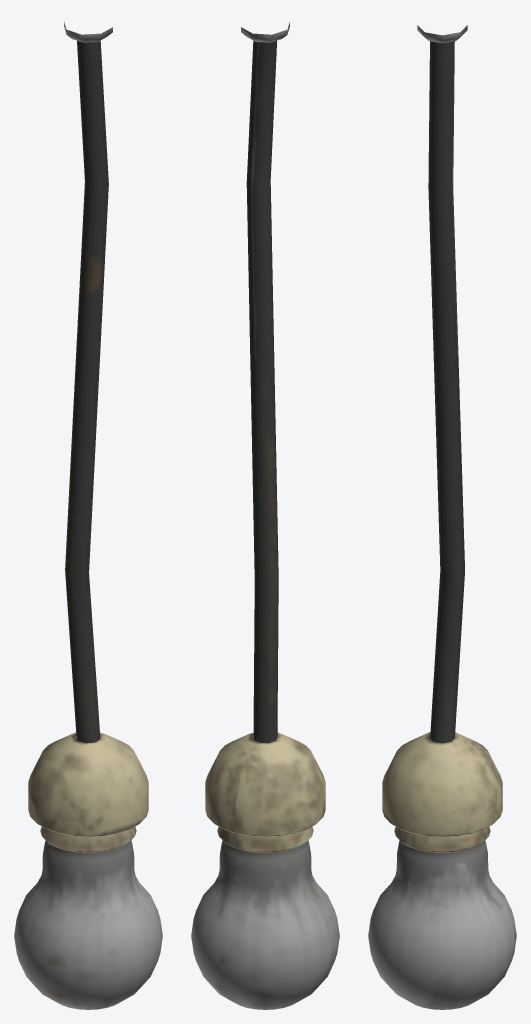
The model's file is SM_lightbulb.gltf.
3 views of the same model, side by side, from view 1: azimuth 30°, elevation 25°; view 2: azimuth 150°, elevation 25°; view 3: azimuth 270°, elevation 25° (orthographic).
Visible parts, largest first — view 1: SM_lightbulb; view 2: SM_lightbulb; view 3: SM_lightbulb.
Part boxes in pixels (x1,y1,x2,y2): SM_lightbulb: (14,22,162,1009); SM_lightbulb: (191,22,339,1009); SM_lightbulb: (368,25,516,1009).
Size of the model in its own units: 0.06 by 0.4357 by 0.06.
1 material, 1 textured.
